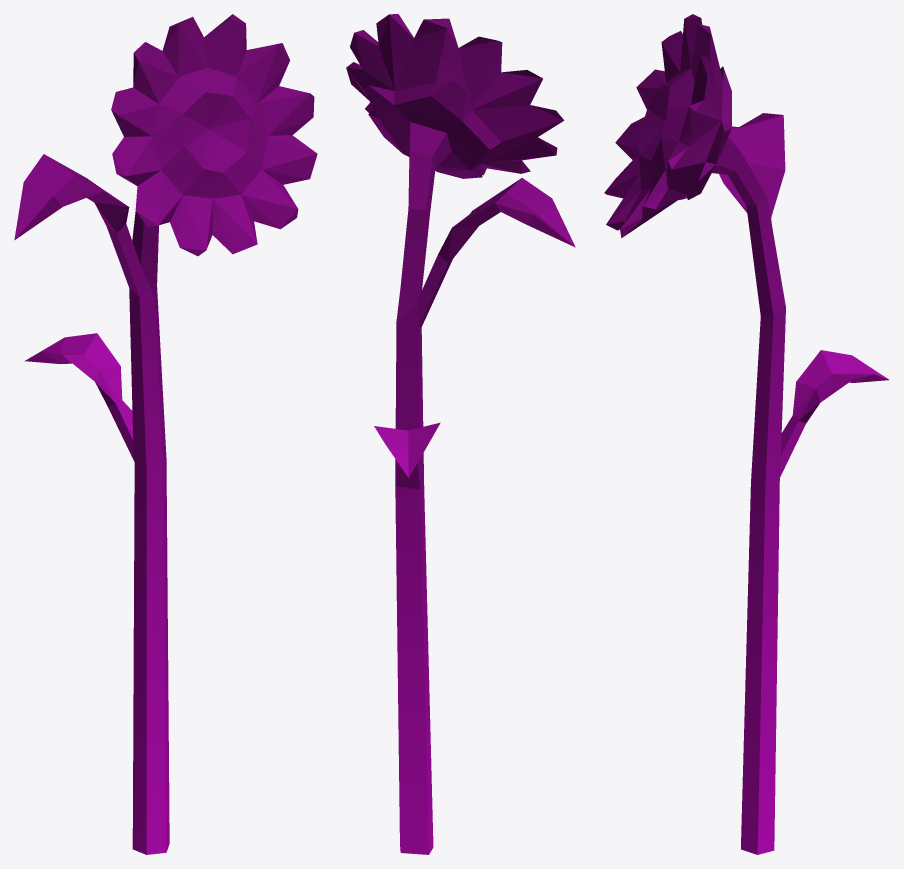
The model's file is SM_Prop_Sunflower_02.fbx.
3 renders of one model, left to right at view 1: azimuth 30°, elevation 25°; view 2: azimuth 150°, elevation 25°; view 3: azimuth 270°, elevation 25°, orthographic. The views are drawn at different scales.
Parts seen in each view (by area): view 1: SM_Prop_Sunflower_02; view 2: SM_Prop_Sunflower_02; view 3: SM_Prop_Sunflower_02.
Part boxes in pixels (x1,y1,x2,y2): SM_Prop_Sunflower_02: (14, 14, 317, 854); SM_Prop_Sunflower_02: (346, 14, 575, 854); SM_Prop_Sunflower_02: (604, 14, 888, 854).
Size of the model in its own units: 36.85 by 110 by 34.77.
